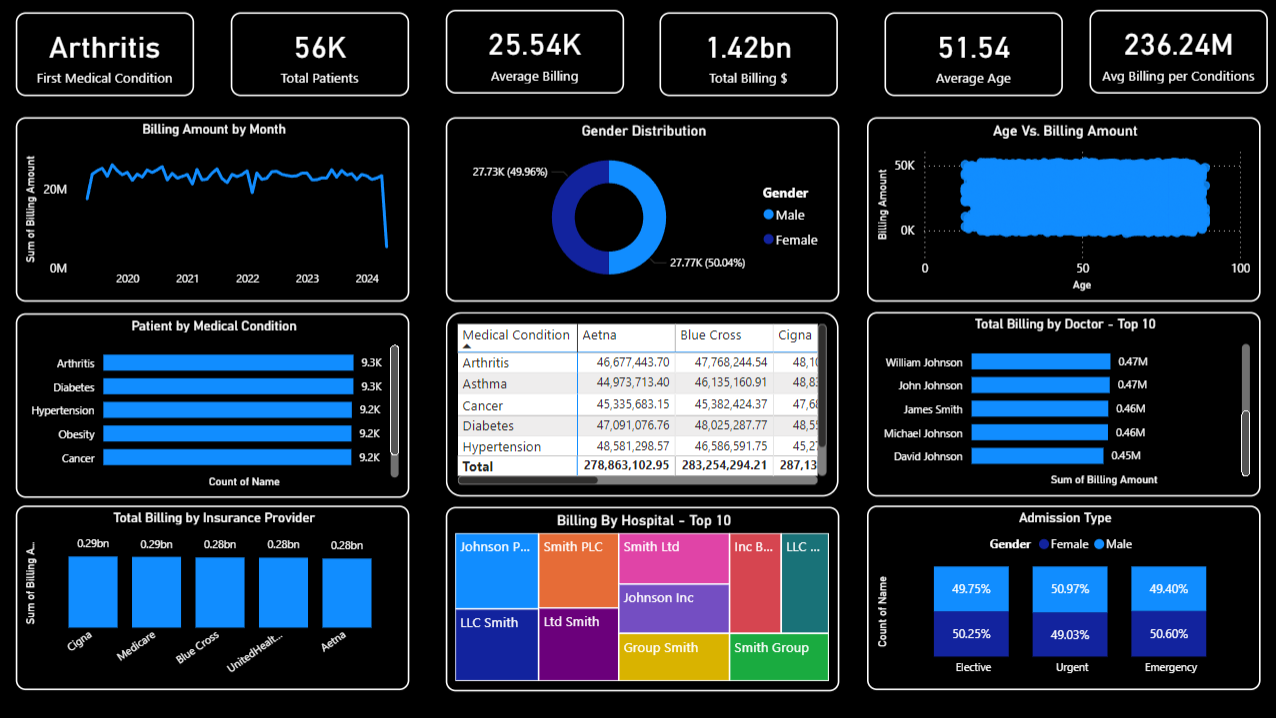

The dashboard page shown, as its layout file describes it:
{"tool":"powerbi","page":{"name":"Page 1","canvas":[1280,720],"ordinal":0},"visuals":[{"type":"card","fields":{"Values":["healthcare_dataset.Medical Condition"]},"box":[18.8,12.5,178.8,83.8],"z":0},{"type":"card","fields":{"Values":["healthcare_dataset.Total Patients"]},"box":[233.5,12.5,178.8,83.8],"z":1000},{"type":"card","fields":{"Values":["healthcare_dataset.Average Billing"]},"box":[448.2,10,178.8,83.8],"z":2000},{"type":"card","fields":{"Values":["healthcare_dataset.Total Billing $"]},"box":[663,12.5,178.8,83.8],"z":3000},{"type":"card","fields":{"Values":["healthcare_dataset.Average Age"]},"box":[887.5,12.5,178.8,83.8],"z":4000},{"type":"card","fields":{"Values":["healthcare_dataset.Avg Billing per Conditions"]},"box":[1092.5,10,178.8,83.8],"z":5000},{"type":"lineChart","title":"Billing Amount by  Month","fields":{"Y":["healthcare_dataset.Billing Amount"],"Category":["healthcare_dataset.Date of Admission.Variation.Date Hierarchy.Year","healthcare_dataset.Date of Admission.Variation.Date Hierarchy.Month"]},"box":[19.3,117,393.3,184.6],"z":6000},{"type":"clusteredBarChart","title":"Patient by Medical Condition","fields":{"Category":["healthcare_dataset.Medical Condition"],"Y":["healthcare_dataset.Name"]},"box":[19.3,313.7,393.3,184.6],"z":7000},{"type":"clusteredColumnChart","title":"Total Billing by Insurance Provider","fields":{"Category":["healthcare_dataset.Insurance Provider"],"Y":["healthcare_dataset.Billing Amount"]},"box":[19.3,506.7,393.3,184.6],"z":8000},{"type":"clusteredBarChart","title":"Total Billing by Doctor - Top 10","fields":{"Category":["healthcare_dataset.Doctor"],"Y":["healthcare_dataset.Billing Amount"]},"box":[869.8,312.5,393.3,184.6],"z":9000},{"type":"hundredPercentStackedColumnChart","title":"Admission Type","fields":{"Category":["healthcare_dataset.Admission Type"],"Y":["healthcare_dataset.Name"],"Series":["healthcare_dataset.Gender"]},"box":[869.8,506.7,393.3,184.6],"z":10000},{"type":"donutChart","title":"Gender Distribution","fields":{"Category":["healthcare_dataset.Gender"],"Y":["healthcare_dataset.Name"]},"box":[448.8,117,393.3,184.6],"z":11000},{"type":"scatterChart","title":" Age Vs. Billing Amount","fields":{"X":["healthcare_dataset.Age"],"Y":["healthcare_dataset.Billing Amount"]},"box":[869.8,117,393.3,184.6],"z":12000},{"type":"treemap","title":" Billing By Hospital - Top 10","fields":{"Group":["healthcare_dataset.Hospital"],"Values":["healthcare_dataset.Billing Amount"]},"box":[448.8,507.9,393.3,184.6],"z":13000},{"type":"pivotTable","fields":{"Rows":["healthcare_dataset.Medical Condition"],"Columns":["healthcare_dataset.Insurance Provider"],"Values":["healthcare_dataset.Billing Amount"]},"box":[449,312,393,185],"z":14000}]}

Visuals, with their boxes in screenshot pixels (x1, y1, x2, y2), scaled from the page's 1280x720 canvas onto the 1276x718 screenshot:
card - healthcare_dataset.Medical Condition: 19 12 197 96
card - healthcare_dataset.Total Patients: 233 12 411 96
card - healthcare_dataset.Average Billing: 447 10 625 94
card - healthcare_dataset.Total Billing $: 661 12 839 96
card - healthcare_dataset.Average Age: 885 12 1063 96
card - healthcare_dataset.Avg Billing per Conditions: 1089 10 1267 94
"Billing Amount by  Month" lineChart: 19 117 411 301
"Patient by Medical Condition" clusteredBarChart: 19 313 411 497
"Total Billing by Insurance Provider" clusteredColumnChart: 19 505 411 689
"Total Billing by Doctor - Top 10" clusteredBarChart: 867 312 1259 496
"Admission Type" hundredPercentStackedColumnChart: 867 505 1259 689
"Gender Distribution" donutChart: 447 117 839 301
" Age Vs. Billing Amount" scatterChart: 867 117 1259 301
" Billing By Hospital - Top 10" treemap: 447 506 839 691
pivotTable - healthcare_dataset.Medical Condition x healthcare_dataset.Insurance Provider: 448 311 839 496
